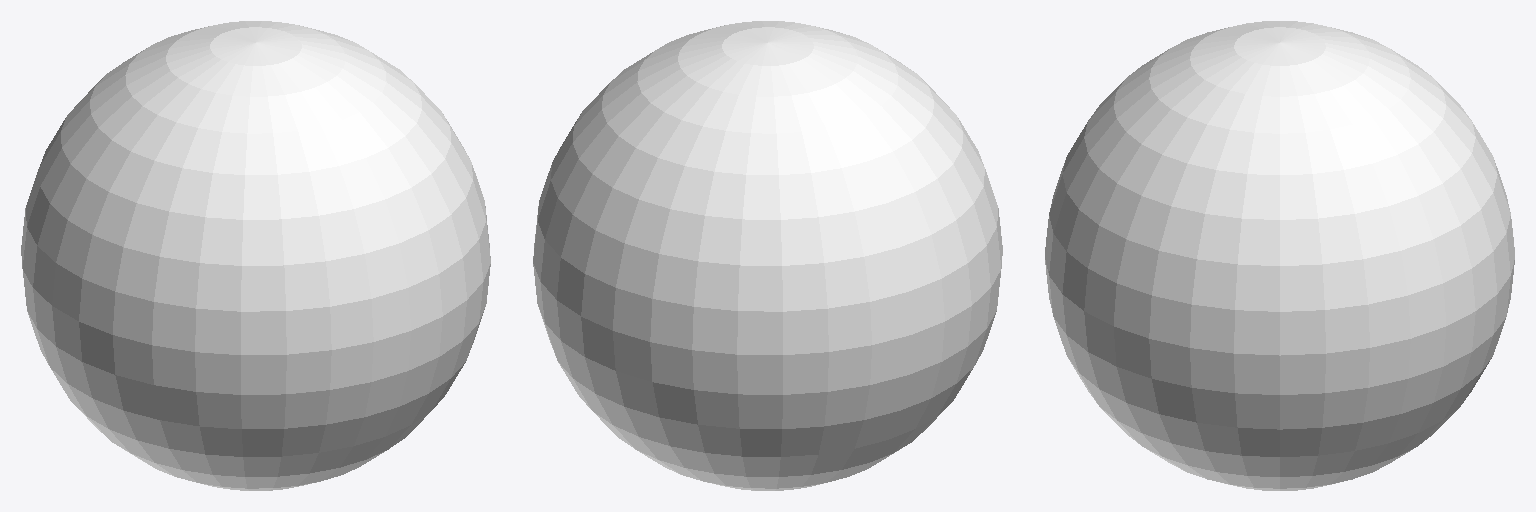
3 views of the same model, side by side, from view 1: azimuth 30°, elevation 25°; view 2: azimuth 150°, elevation 25°; view 3: azimuth 270°, elevation 25° (orthographic).
Parts seen in each view (by area): view 1: Sphere; view 2: Sphere; view 3: Sphere.
Part boxes in pixels (bbox=[...]): Sphere: bbox=[21, 21, 490, 490]; Sphere: bbox=[533, 21, 1002, 490]; Sphere: bbox=[1045, 21, 1514, 490].
Bounding box in the file's own units: 2 × 2 × 2.
Materials: 1 (1 with a texture image).